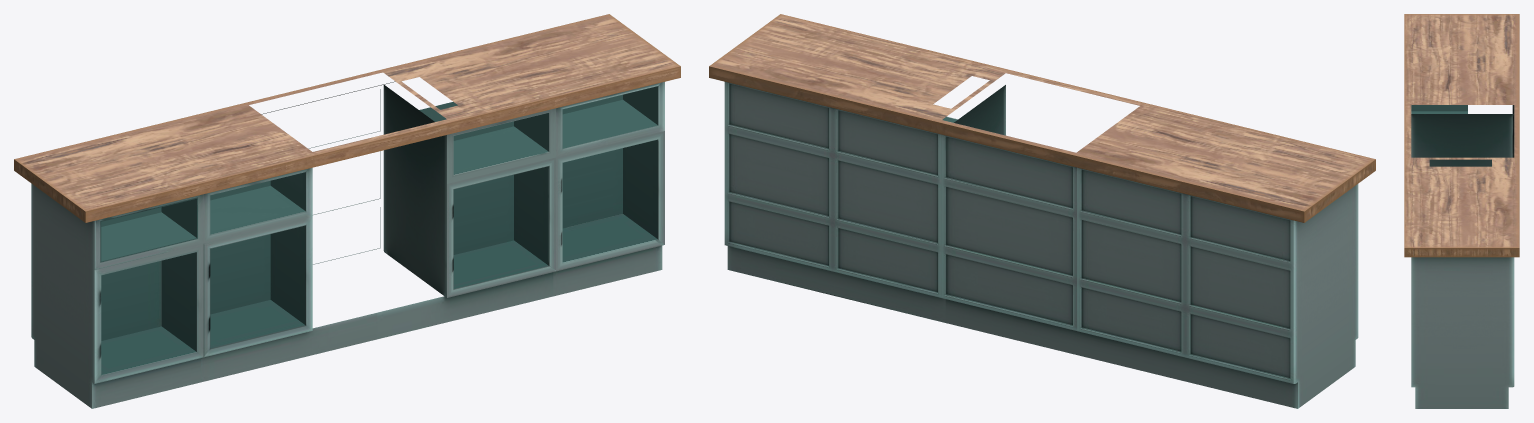
File: counter.glb
The picture shows the model from 3 angles, left to right: view 1: azimuth 30°, elevation 25°; view 2: azimuth 150°, elevation 25°; view 3: azimuth 270°, elevation 25°; orthographic projection. The views are drawn at different scales.
Parts seen in each view (by area): view 1: KitchenCounterFrame; view 2: KitchenCounterFrame; view 3: KitchenCounterFrame.
Boxes of the visible parts, x1=… form: KitchenCounterFrame: x1=14, y1=14, x2=680, y2=408; KitchenCounterFrame: x1=709, y1=14, x2=1375, y2=408; KitchenCounterFrame: x1=1404, y1=14, x2=1519, y2=408.
Size of what is drawn, in the model's own units: 3.42 by 1.13 by 0.712.
Materials: 1 (1 with a texture image).
